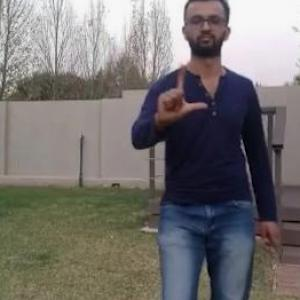land_hand: (150, 58, 210, 128)
